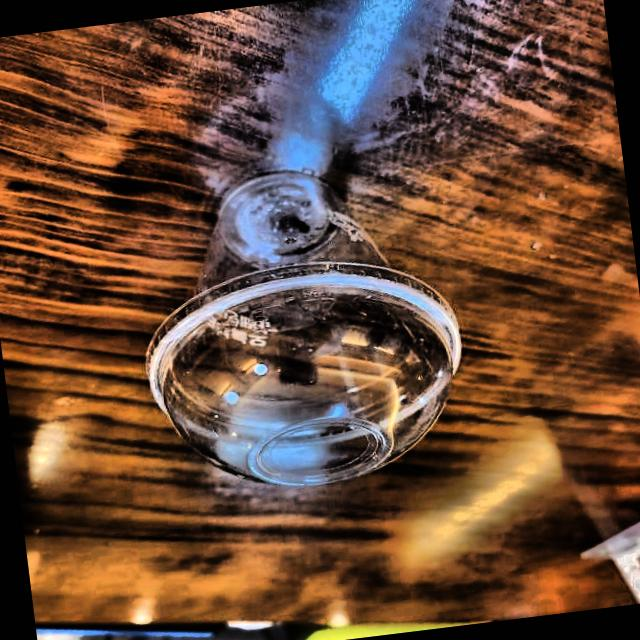plastic cup: (94, 104, 498, 531)
